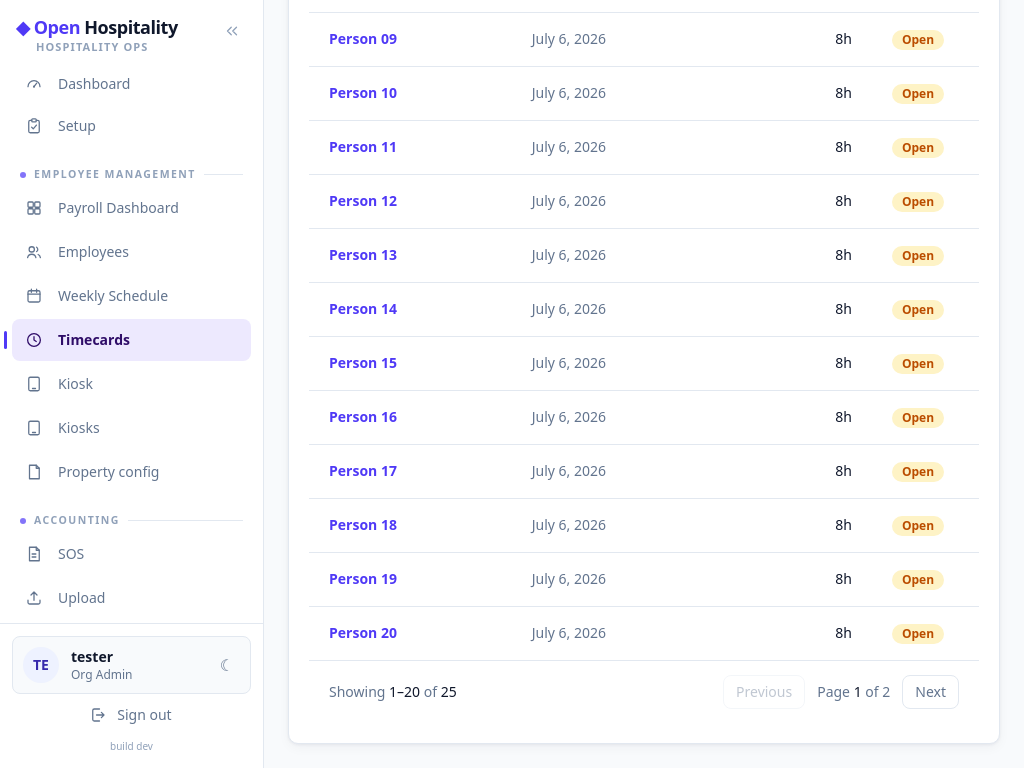
it: TimecardsPage › filters by name, period and status, and pages the rest
The image size is (1024, 768).
(page scrolled)
Click the button "Next" at (931, 692), box [902, 675, 959, 709]
(page scrolled)
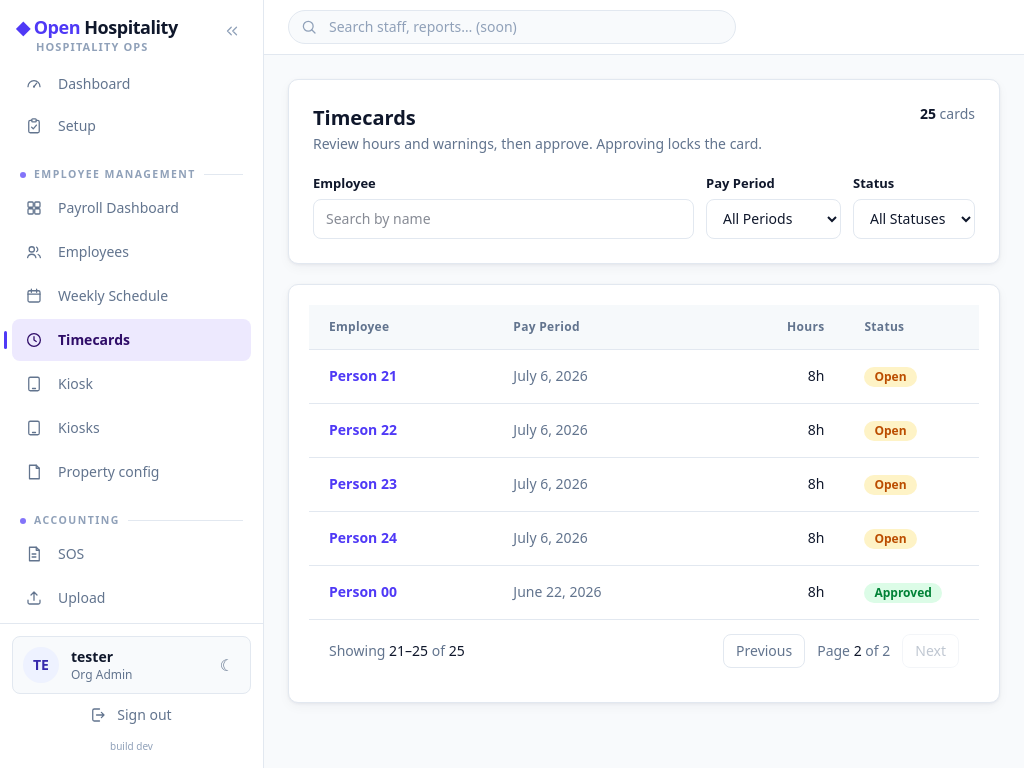
Expected: the number of rows is 6, [309, 305, 979, 349]; [309, 349, 979, 403]; [309, 403, 979, 457]; [309, 457, 979, 511]; [309, 511, 979, 565]; [309, 565, 979, 619]
Type "Person 03" into the field named "Filter By Employee" at (504, 219), box [313, 199, 694, 239]
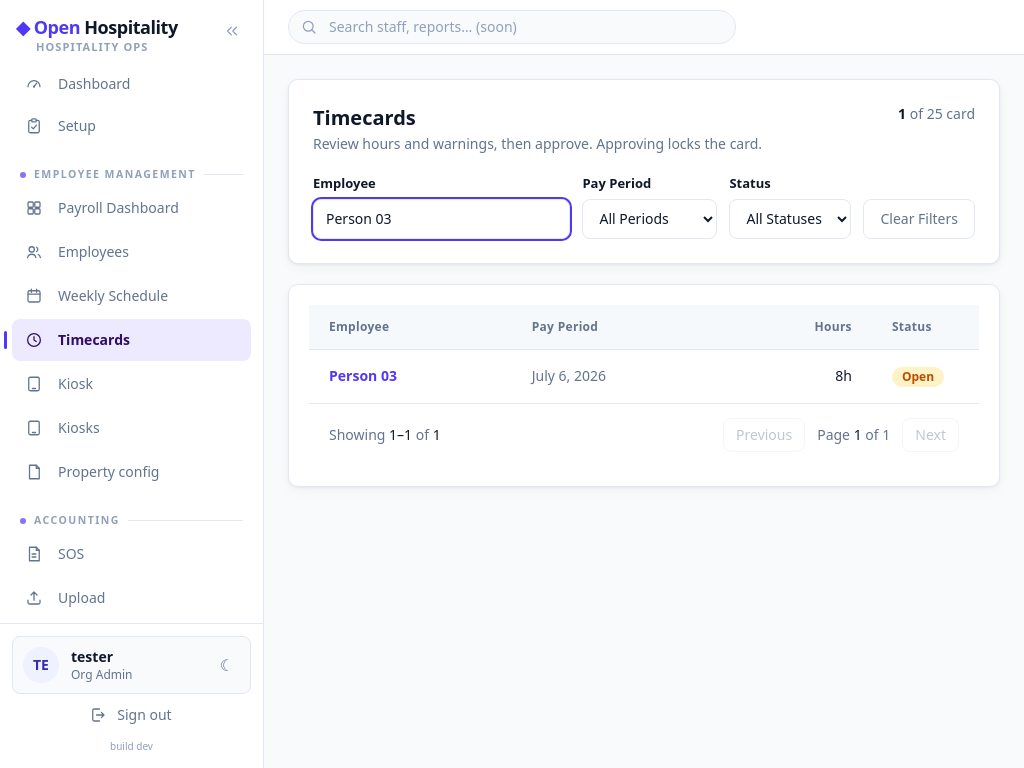
Expected: the table "Person 04" is not shown
Expected: the button "Person 03" is shown, [329, 366, 397, 386]
Click the button "Clear Filters" at (919, 219), box [863, 199, 975, 239]
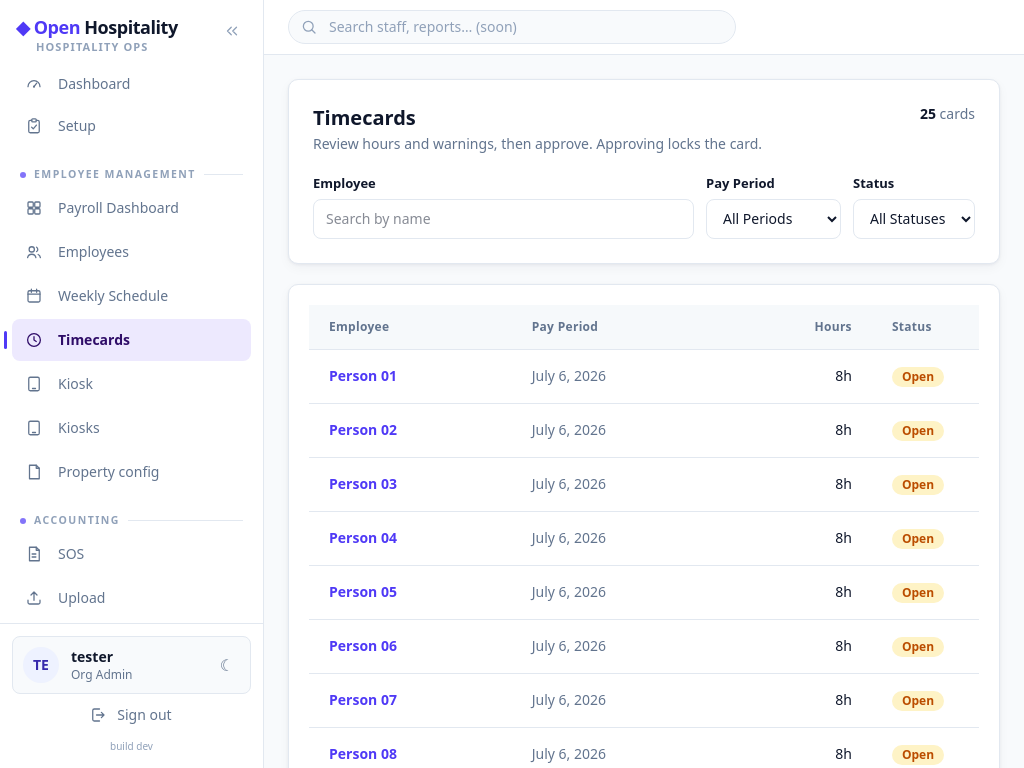
Select "Approved" in the dropdown named "Filter By Status" at (914, 219), box [853, 199, 975, 239]
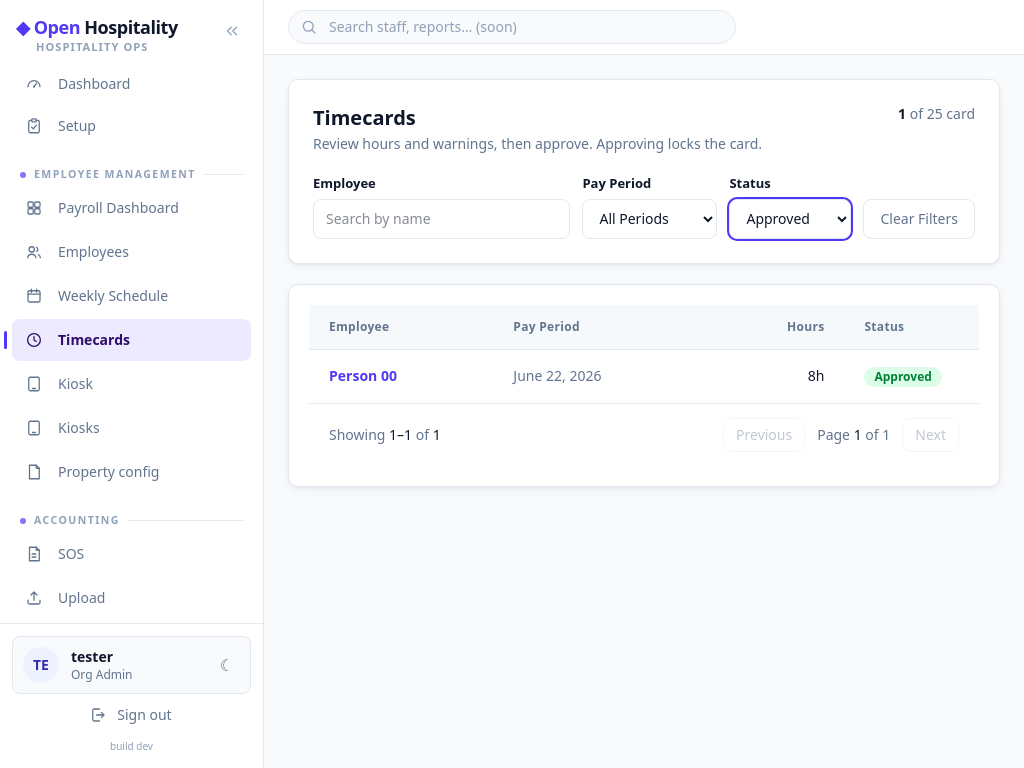
Expected: the button "Person 00" is shown, [329, 366, 397, 386]
Expected: the button "Person 01" is gone
Select "July 6, 2026" in the dropdown named "Filter By Pay Period" at (650, 219), box [582, 199, 717, 239]
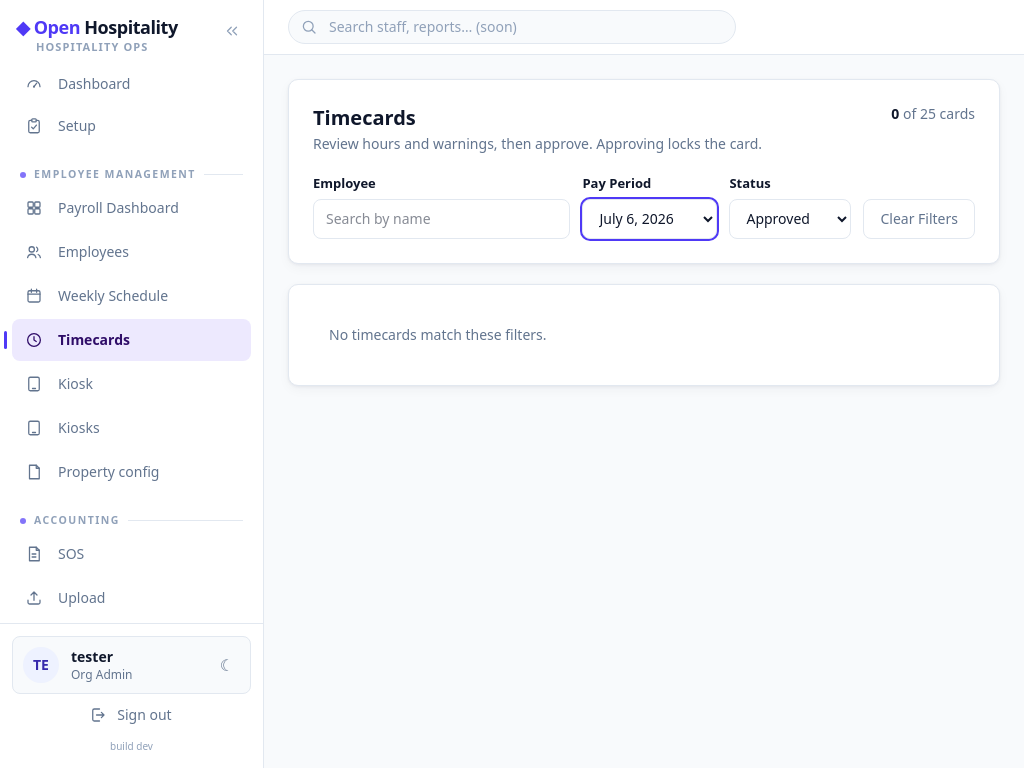
Expected: the text "No timecards match these filters." is shown, [329, 325, 546, 344]
